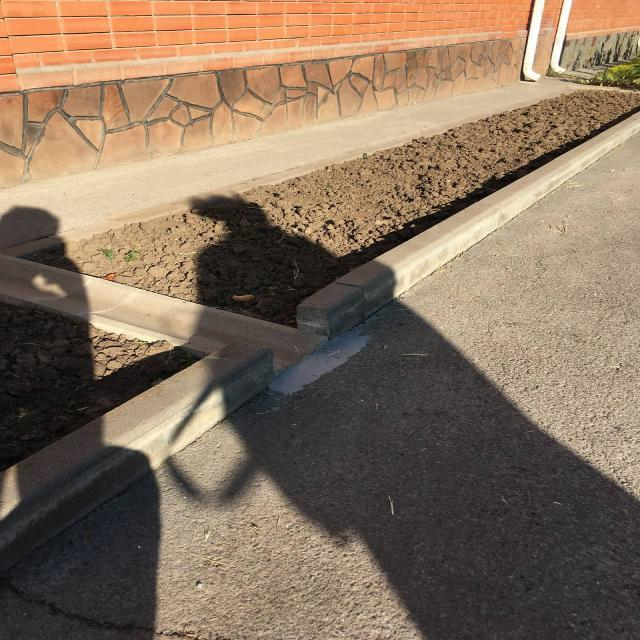bump: (2, 341, 280, 569), (288, 234, 454, 342)
